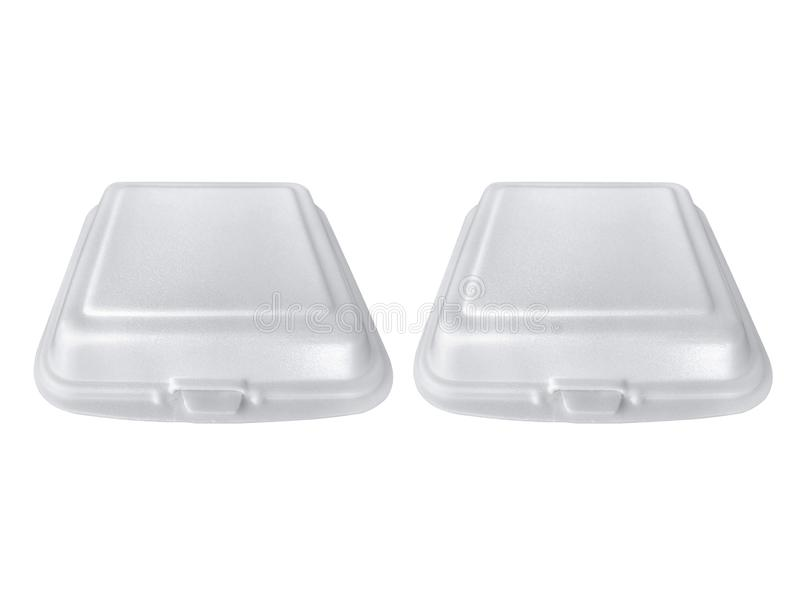Foam Box: (25, 173, 401, 434), (410, 174, 782, 430)
